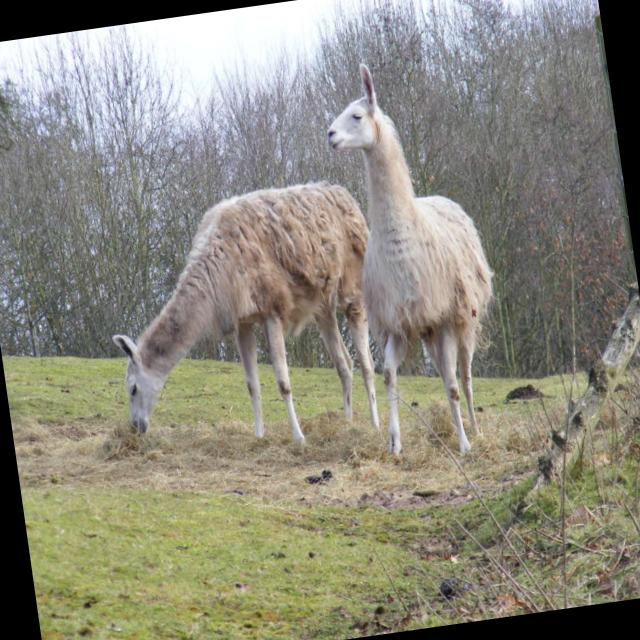alpaca: (96, 178, 396, 471), (318, 50, 514, 461)
